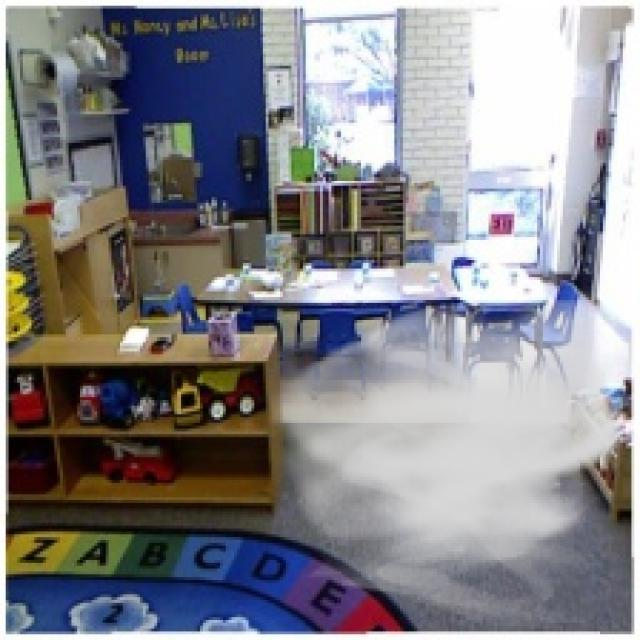smoke: (266, 288, 626, 632)
